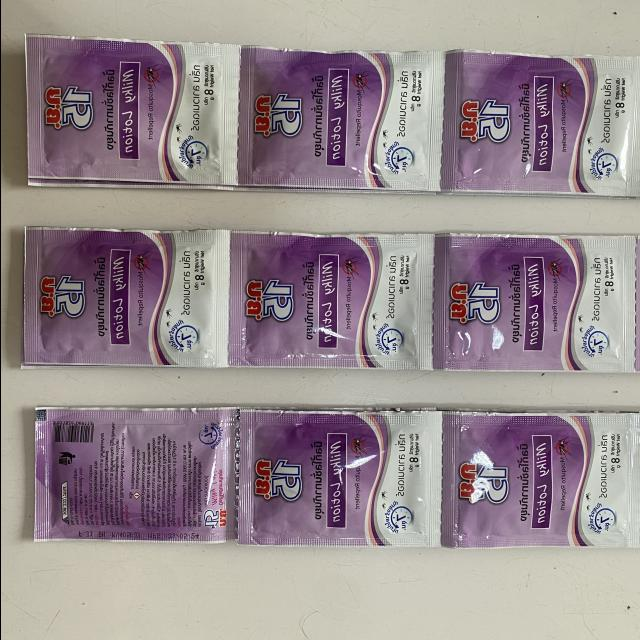plastik: (25, 34, 238, 187), (237, 47, 444, 191), (440, 51, 640, 196), (21, 228, 228, 367), (433, 234, 640, 372), (227, 232, 433, 369), (237, 410, 440, 546), (34, 408, 236, 542), (440, 412, 640, 547)
